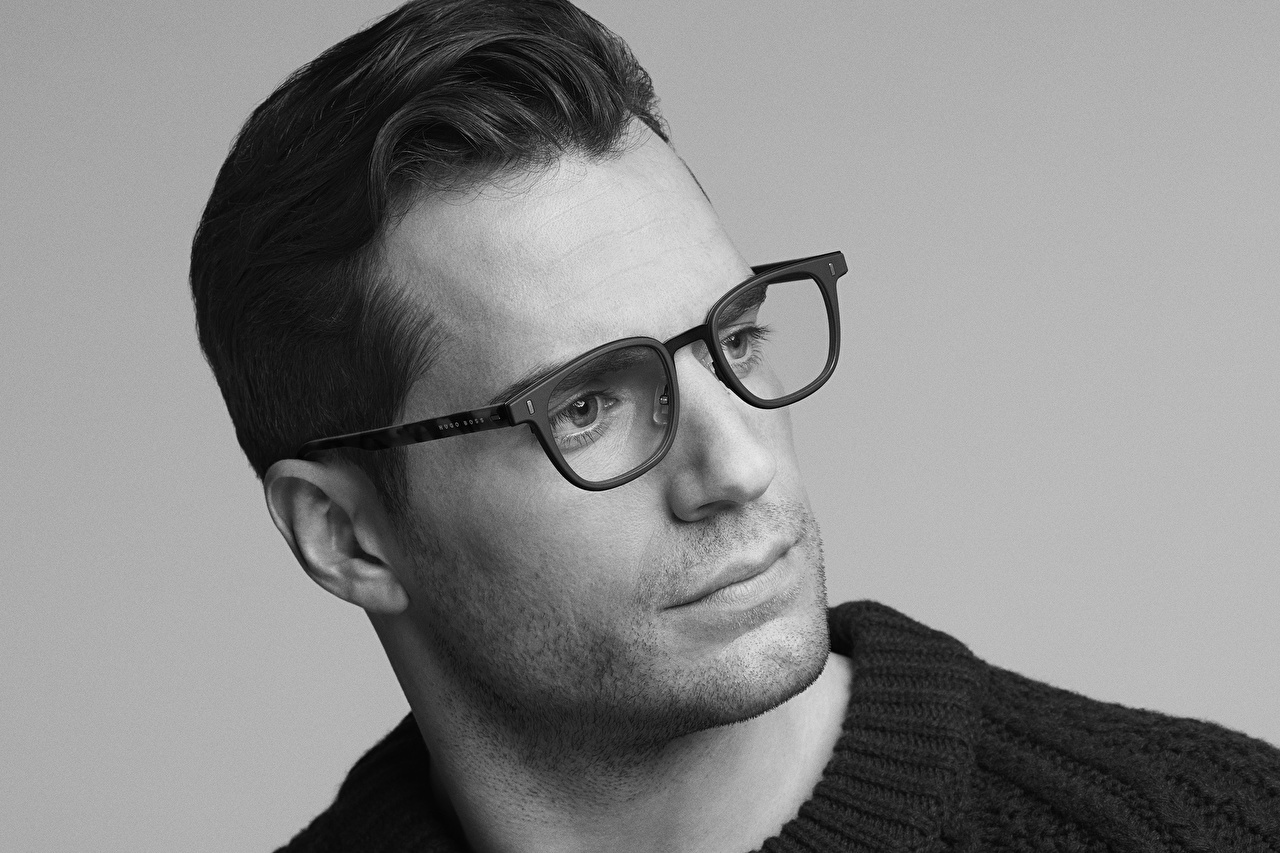glasses: (392, 253, 875, 499)
